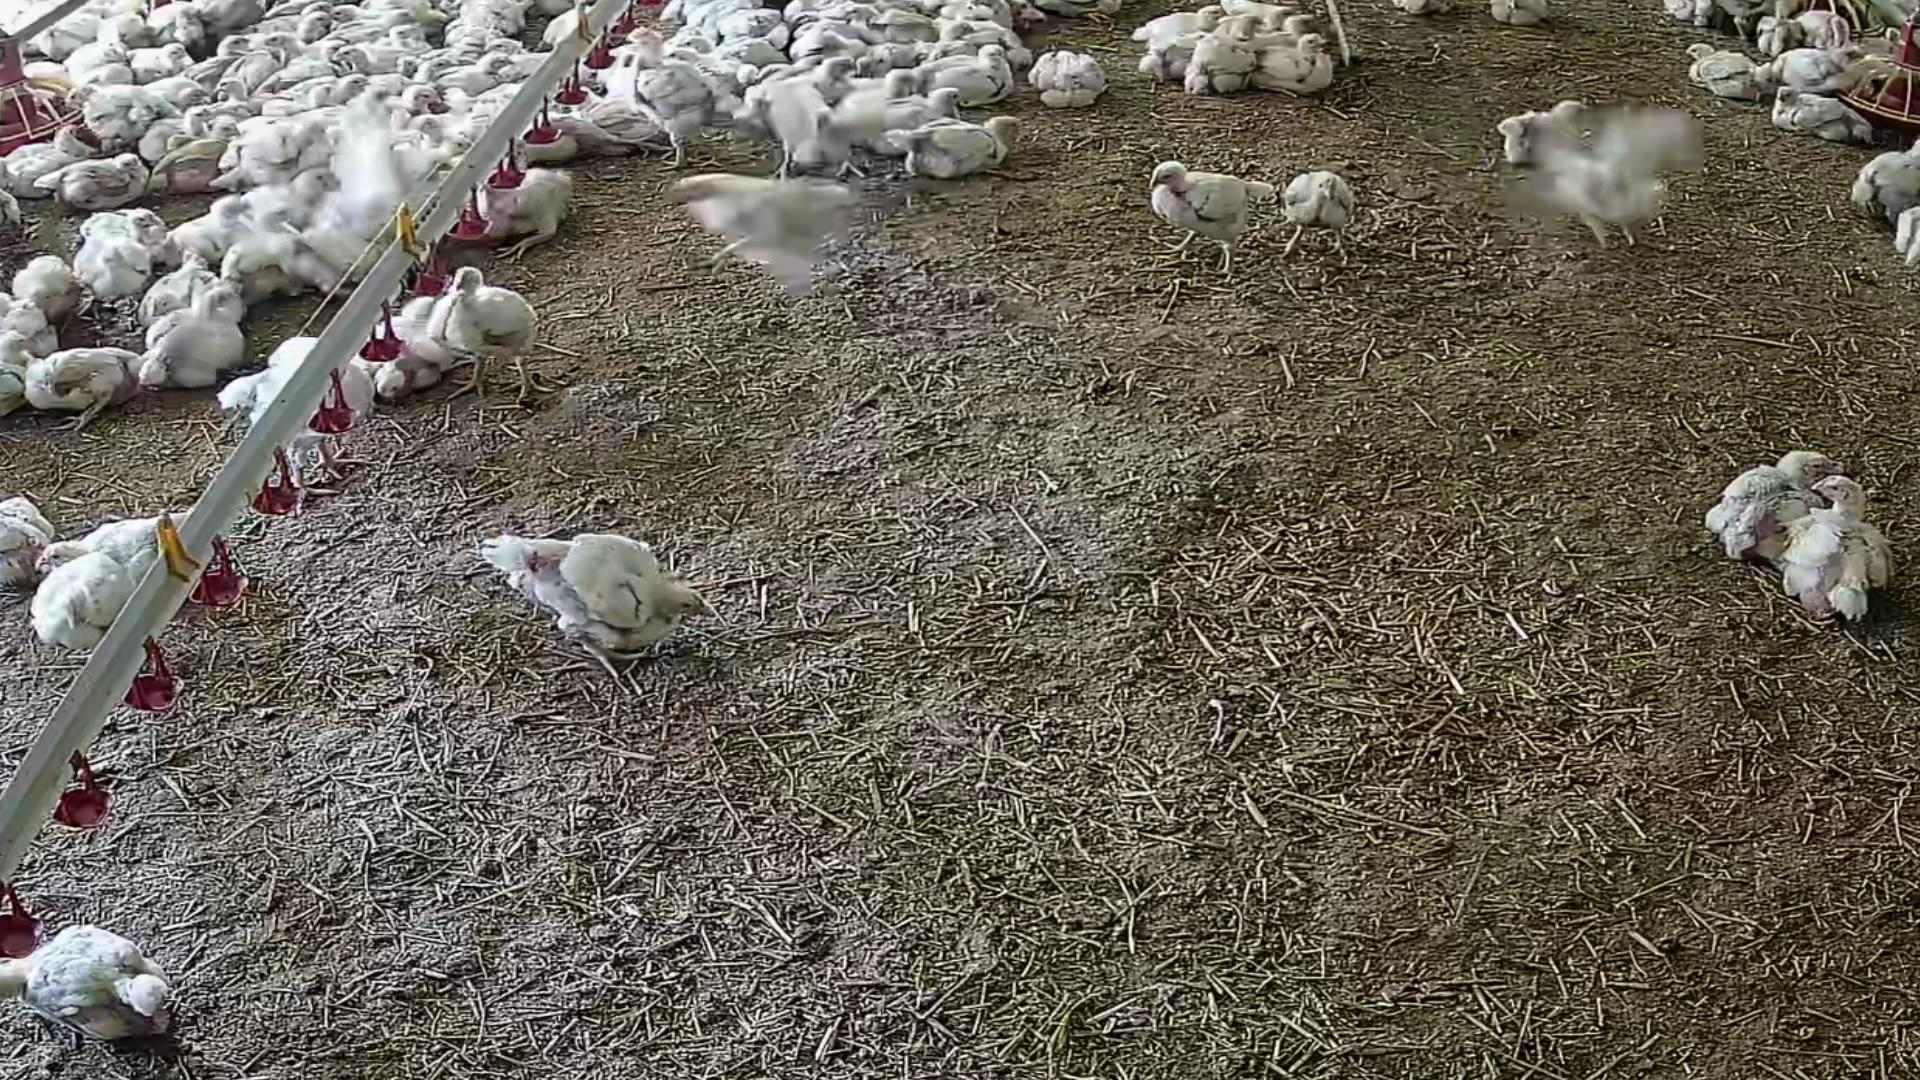poussin: (467, 504, 713, 679), (1490, 88, 1705, 260), (655, 153, 873, 316), (0, 903, 198, 1076), (430, 255, 563, 397), (1785, 463, 1892, 632), (17, 534, 150, 662), (1130, 145, 1257, 280), (1279, 141, 1389, 273), (1716, 430, 1828, 555), (633, 33, 723, 183), (766, 70, 878, 174), (902, 107, 1039, 185), (1851, 117, 1920, 269), (152, 290, 255, 388), (4, 347, 146, 414), (160, 121, 252, 207), (1679, 24, 1775, 99), (915, 42, 1027, 104), (11, 241, 98, 320), (70, 79, 165, 150), (1029, 42, 1120, 109), (1763, 83, 1866, 141), (49, 150, 157, 204), (74, 231, 157, 298), (1204, 12, 1262, 105), (9, 123, 94, 181), (1265, 25, 1327, 103), (266, 171, 357, 222), (1131, 0, 1220, 49), (79, 211, 181, 251), (798, 41, 861, 96), (440, 54, 524, 91), (338, 42, 404, 84), (372, 79, 446, 115), (218, 80, 293, 113), (135, 40, 193, 79), (153, 73, 215, 107), (673, 24, 723, 62), (1490, 0, 1548, 26), (261, 26, 307, 57), (481, 36, 538, 58), (214, 34, 262, 54), (302, 5, 331, 38), (334, 0, 363, 26)
